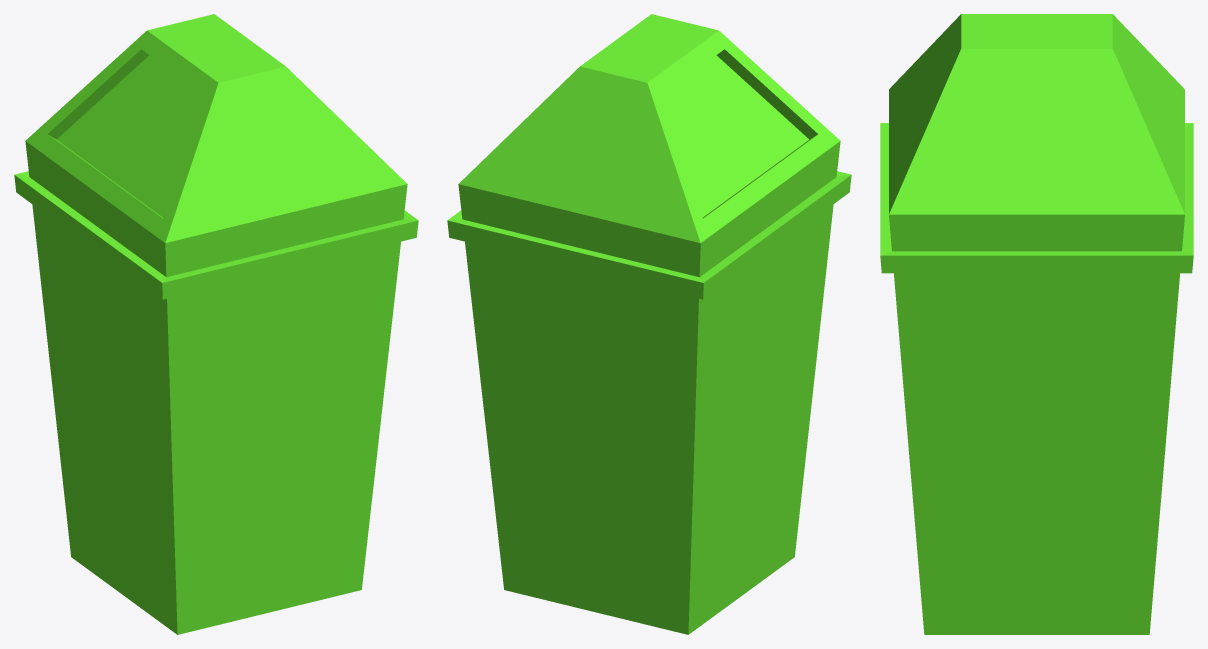
File: tacho-verde-pintado.fbx
3 renders of one model, left to right at view 1: azimuth 30°, elevation 25°; view 2: azimuth 150°, elevation 25°; view 3: azimuth 270°, elevation 25°, orthographic. The views are drawn at different scales.
Parts seen in each view (by area): view 1: Cube, Cube.001; view 2: Cube, Cube.001; view 3: Cube, Cube.001.
Boxes of the visible parts, bbox=[...] form: Cube: bbox=[14, 141, 418, 634]; Cube.001: bbox=[25, 14, 406, 242]; Cube: bbox=[447, 141, 851, 634]; Cube.001: bbox=[459, 14, 840, 242]; Cube: bbox=[880, 123, 1193, 634]; Cube.001: bbox=[889, 14, 1184, 214].
Bounding box in the file's own units: 212 × 414 × 212.
